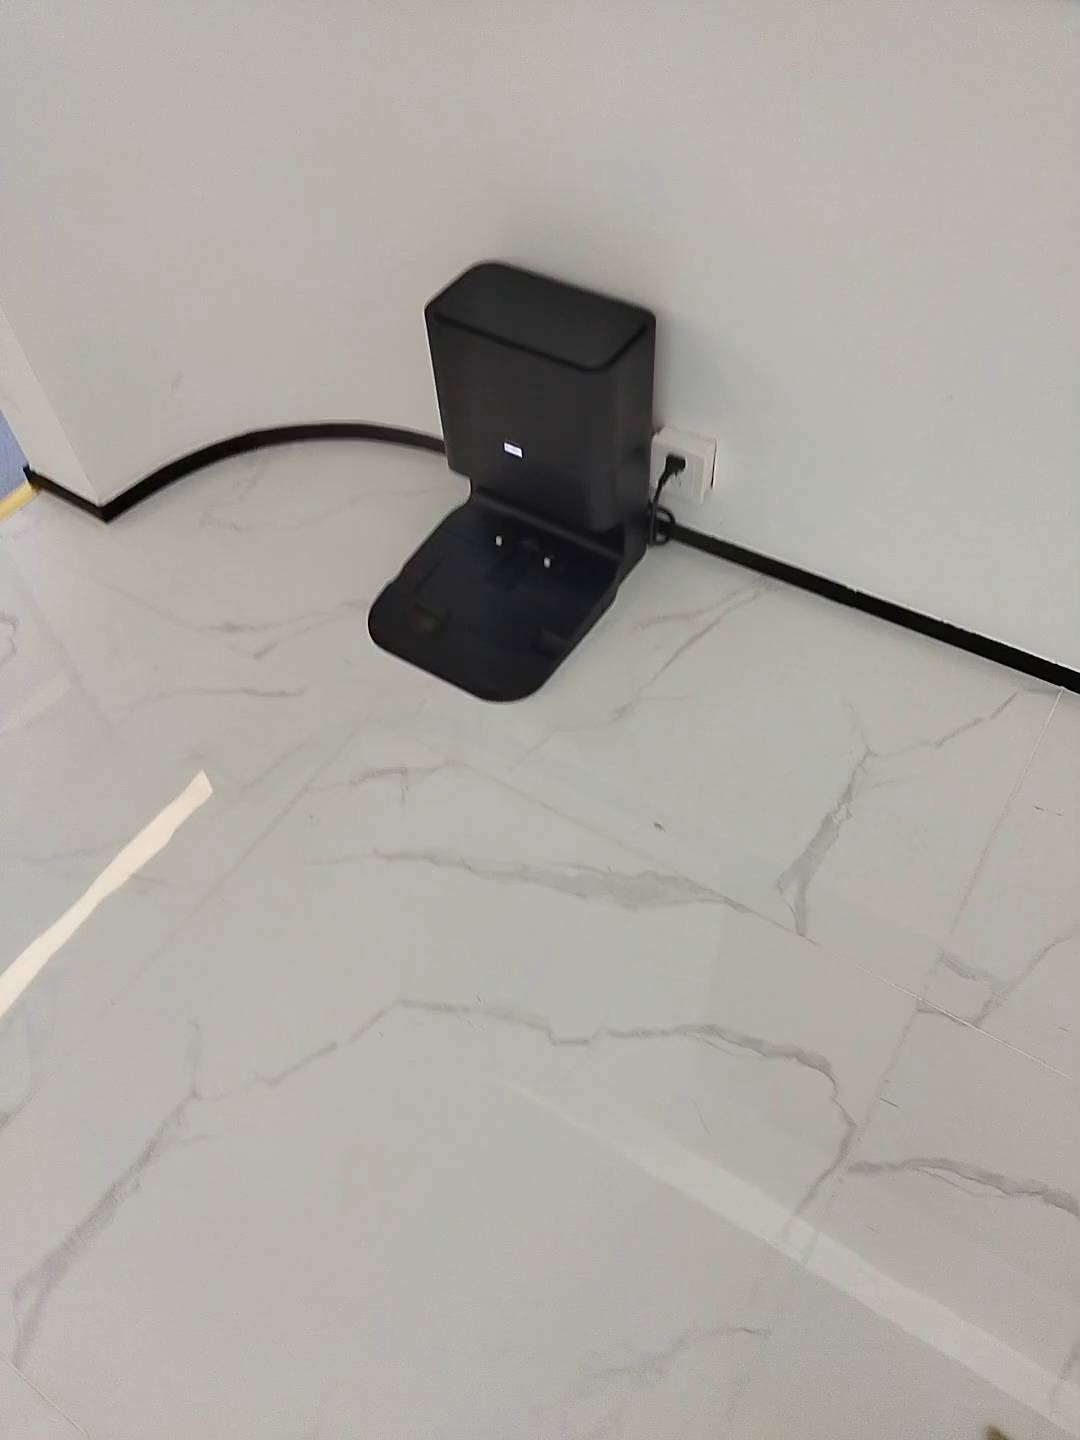dust collecting barrel: (368, 259, 657, 702)
